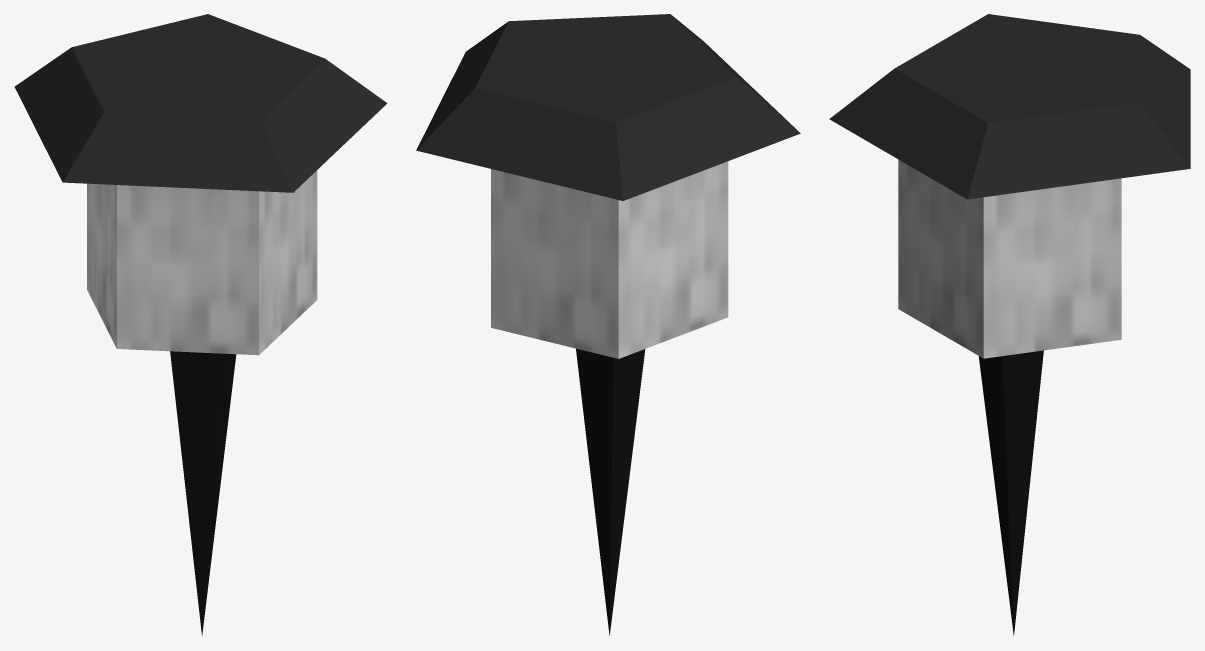
Rendered from PathLight.fbx.
3 renders of one model, left to right at view 1: azimuth 30°, elevation 25°; view 2: azimuth 150°, elevation 25°; view 3: azimuth 270°, elevation 25°, orthographic. The views are drawn at different scales.
Visible parts, largest first — view 1: Maya_File_Assets:TexturedAssetsCurrent:JohnPepper02Assets:Ga; view 2: Maya_File_Assets:TexturedAssetsCurrent:JohnPepper02Assets:Ga; view 3: Maya_File_Assets:TexturedAssetsCurrent:JohnPepper02Assets:Ga.
Part boxes in pixels (bbox=[...]): Maya_File_Assets:TexturedAssetsCurrent:JohnPepper02Assets:Ga: bbox=[14, 14, 387, 636]; Maya_File_Assets:TexturedAssetsCurrent:JohnPepper02Assets:Ga: bbox=[416, 14, 800, 635]; Maya_File_Assets:TexturedAssetsCurrent:JohnPepper02Assets:Ga: bbox=[829, 14, 1190, 635].
Size of the model in its own units: 0.163 by 0.2688 by 0.155.
